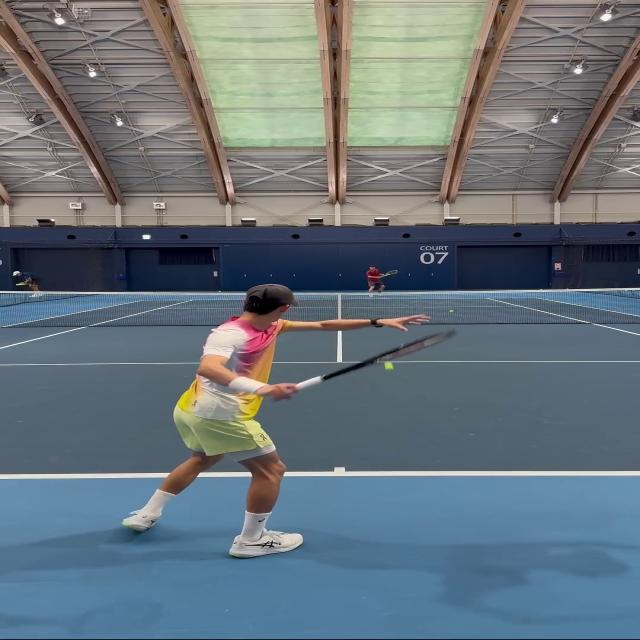tennis_ball: (384, 364, 393, 369)
